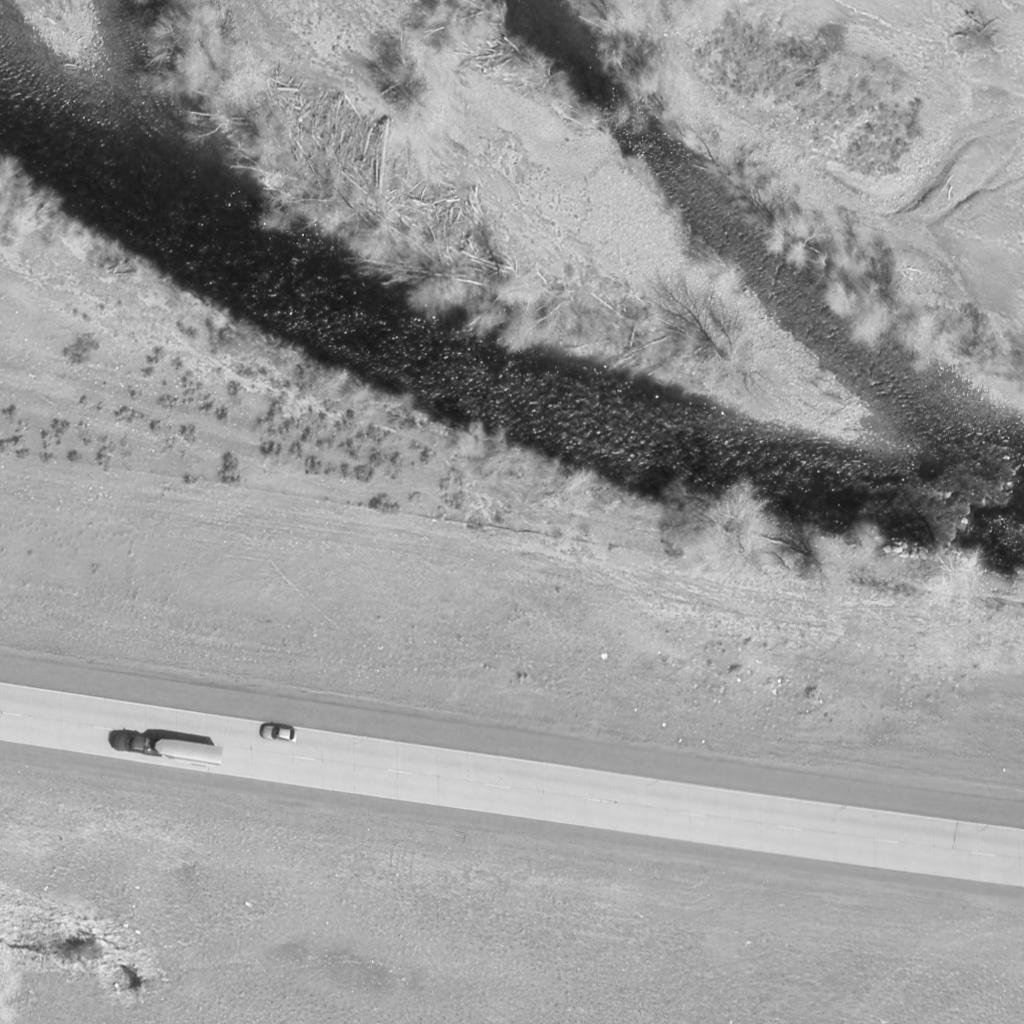vehicle: (111, 731, 223, 767), (261, 723, 299, 743)
